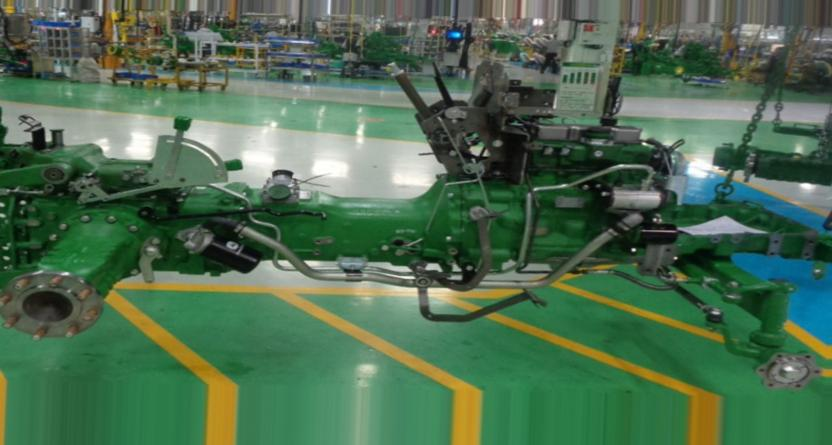engine: (1, 64, 822, 392)
